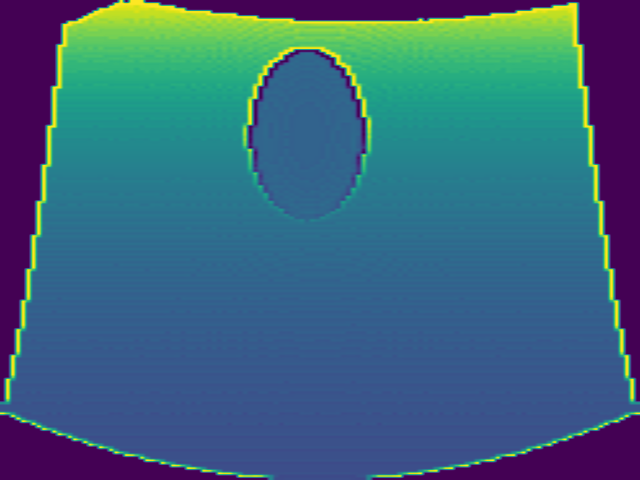sphere: (242, 46, 369, 221)
